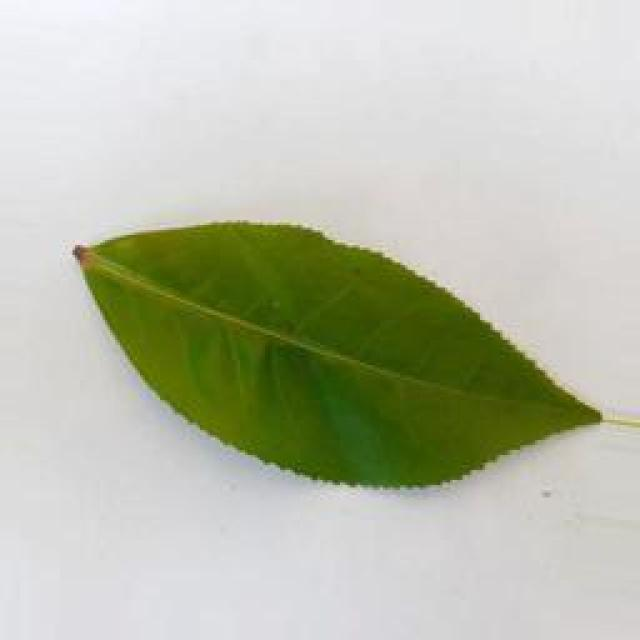Healthy: (49, 193, 626, 501)
